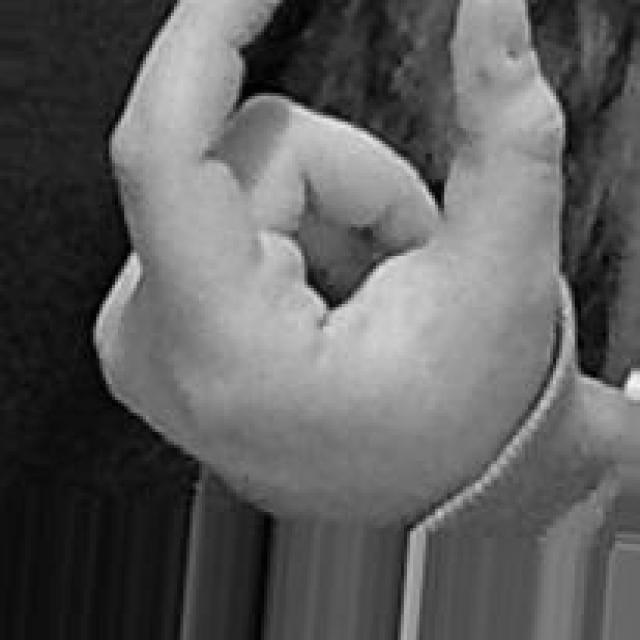U: (87, 0, 569, 525)
